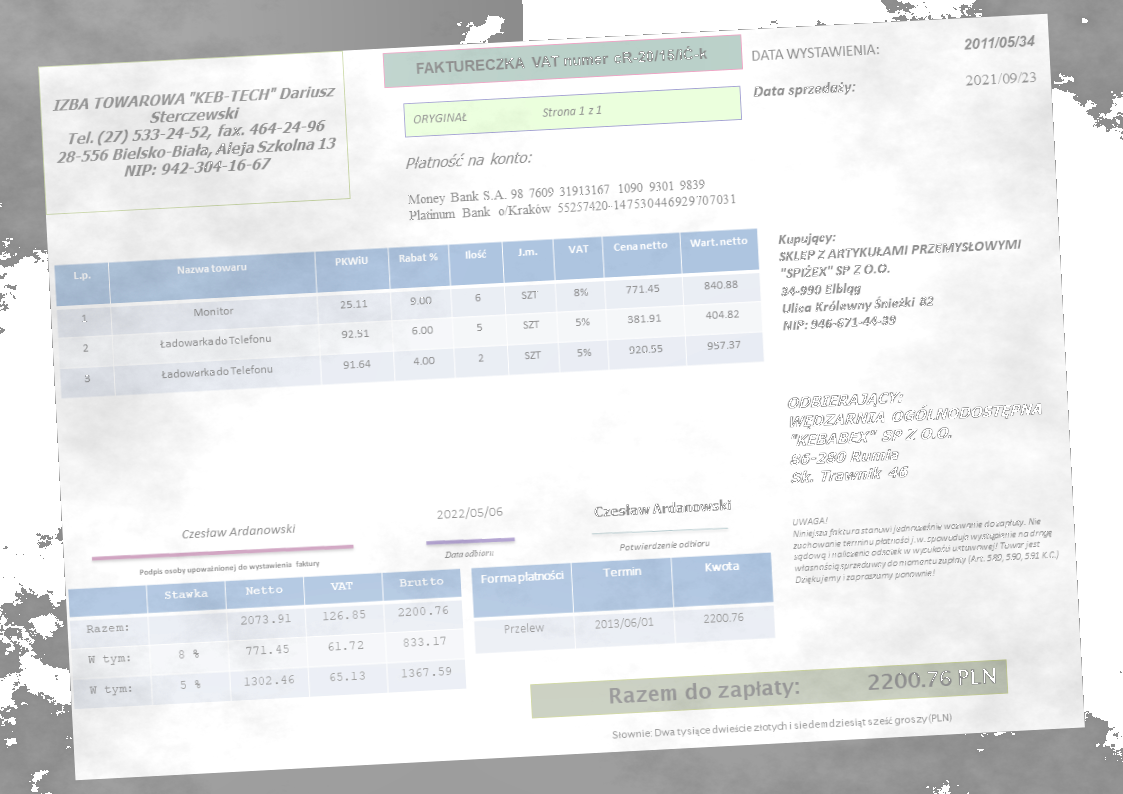Table: (52, 225, 767, 401), (66, 566, 468, 711), (469, 549, 777, 656)
TextBox: (49, 79, 341, 186), (774, 217, 1030, 335), (784, 381, 1049, 488), (789, 500, 1062, 588), (605, 663, 1000, 710), (403, 172, 739, 224), (608, 709, 955, 744), (413, 42, 711, 78), (409, 99, 604, 128), (135, 556, 323, 579), (590, 494, 735, 521), (401, 146, 535, 174), (748, 39, 881, 65), (179, 518, 299, 542), (751, 77, 858, 102), (615, 536, 712, 555), (961, 30, 1039, 53), (962, 67, 1039, 89), (434, 503, 504, 523), (440, 546, 496, 561)
